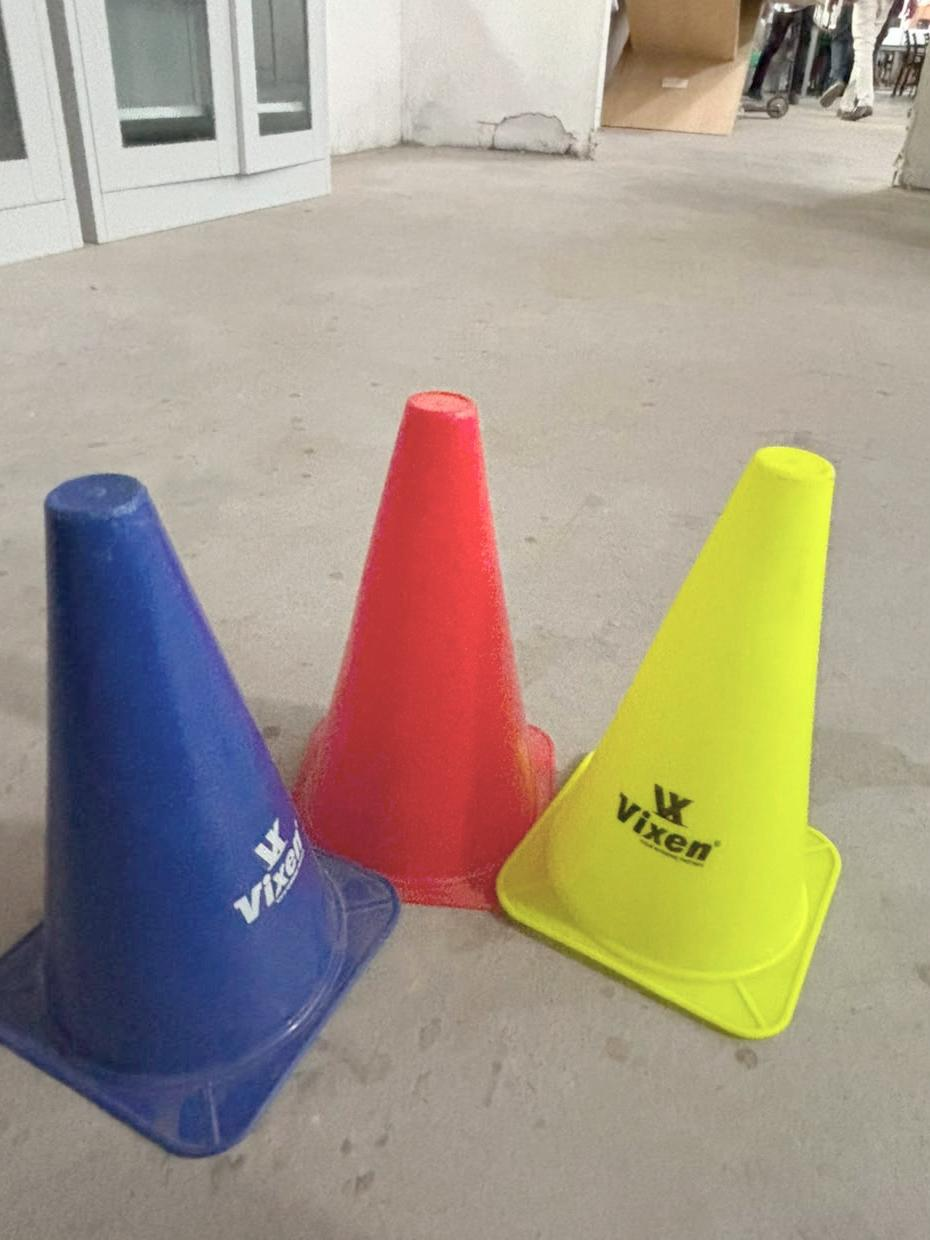0 cone: (0, 392, 842, 1156), (0, 391, 840, 1156)
